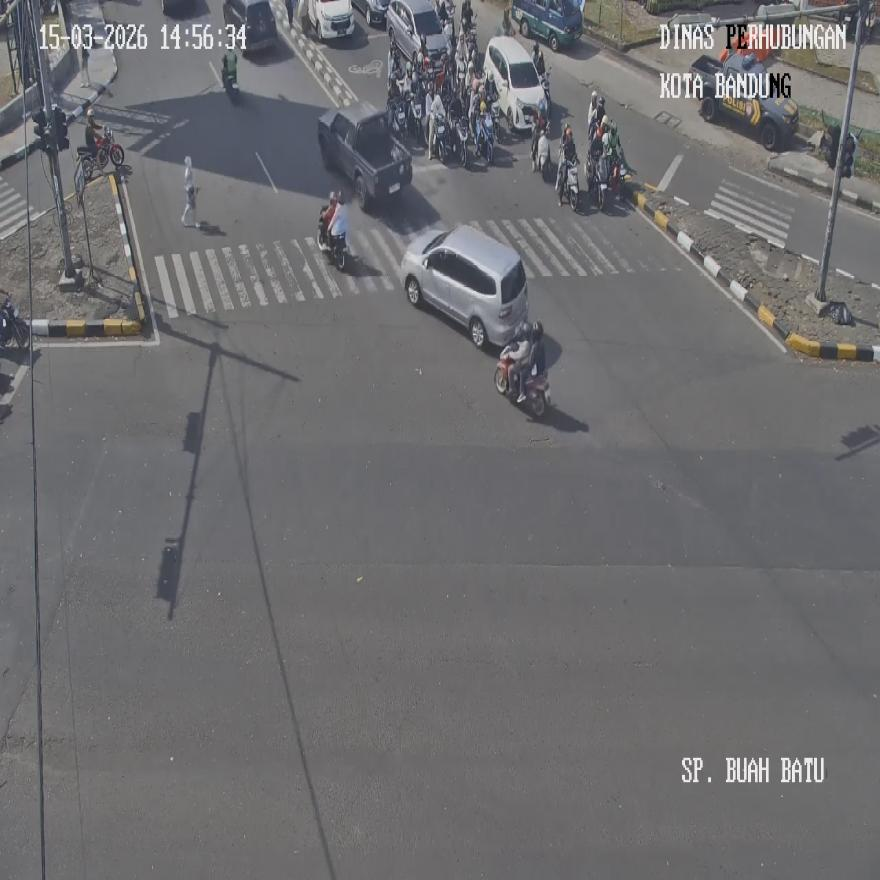Mobil: (401, 222, 529, 348), (317, 104, 412, 211), (511, 0, 584, 51), (222, 0, 276, 55)
Motor: (494, 350, 550, 415), (77, 127, 124, 177), (317, 209, 346, 271), (0, 300, 30, 348), (555, 158, 579, 210), (585, 155, 606, 213), (530, 120, 550, 178), (221, 52, 240, 102), (476, 112, 494, 164), (408, 94, 424, 142)
